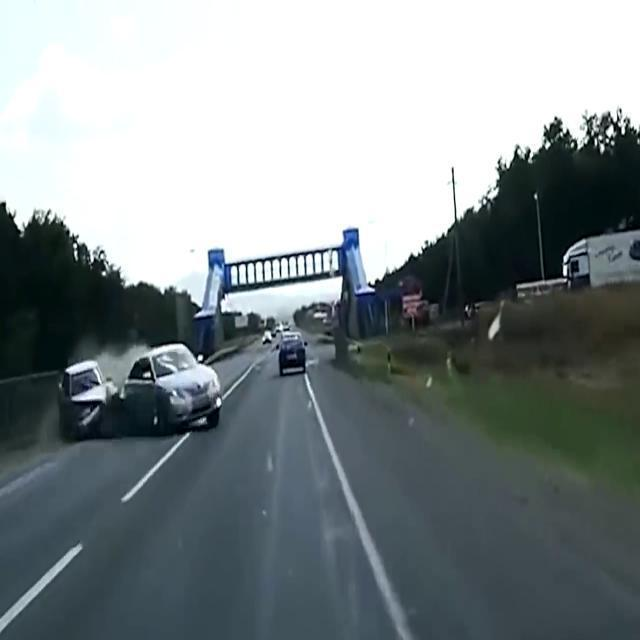accident: (58, 342, 224, 442)
non-accident: (262, 316, 276, 346)
